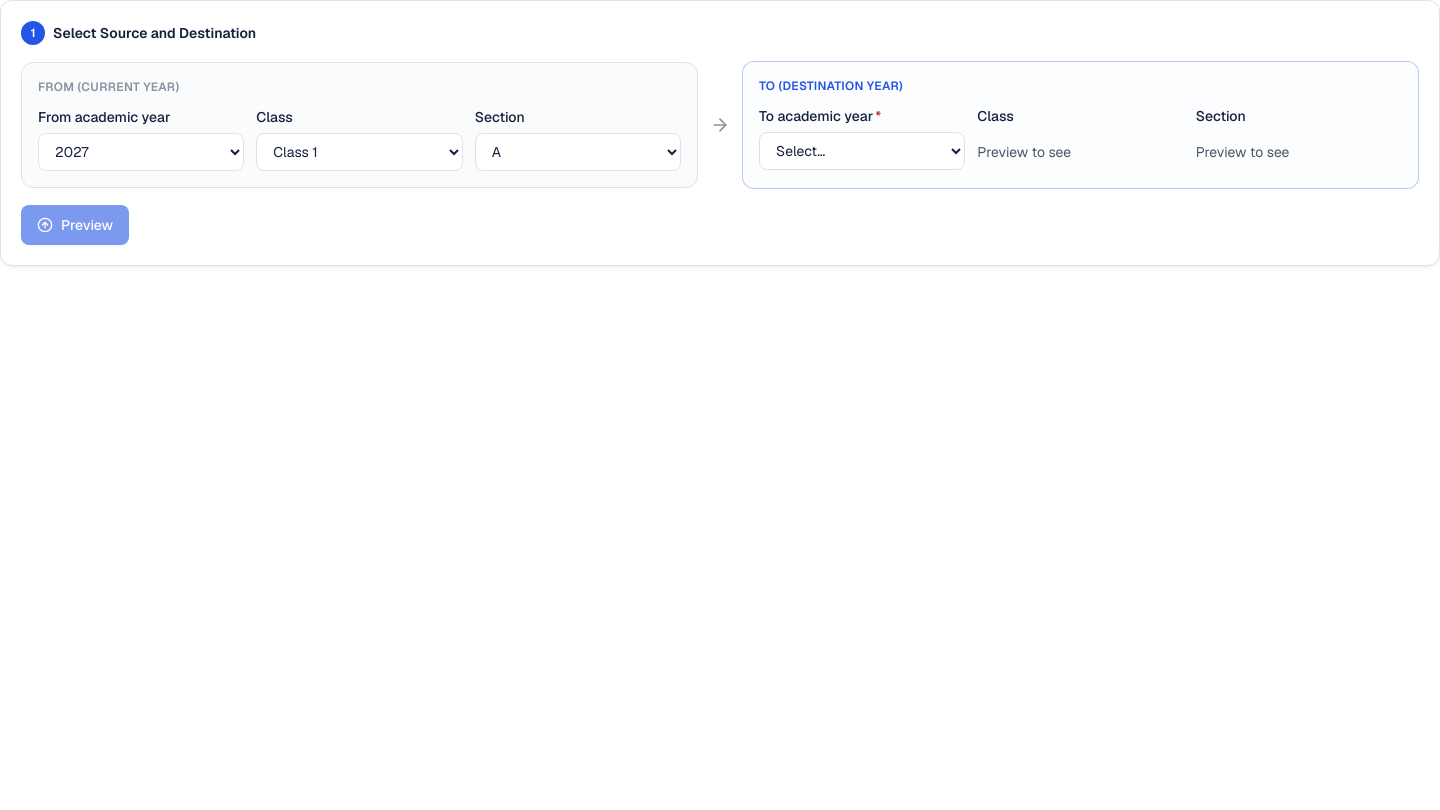
Scenario: PromotionWizard — source/destination display (Step 1) › after Preview, shows the real destination class and section computed by the API — never fabricated
The image size is (1440, 810).
Select "2028" in the dropdown labelled "To academic year" at {"x": 862, "y": 151}, box [759, 132, 965, 170]
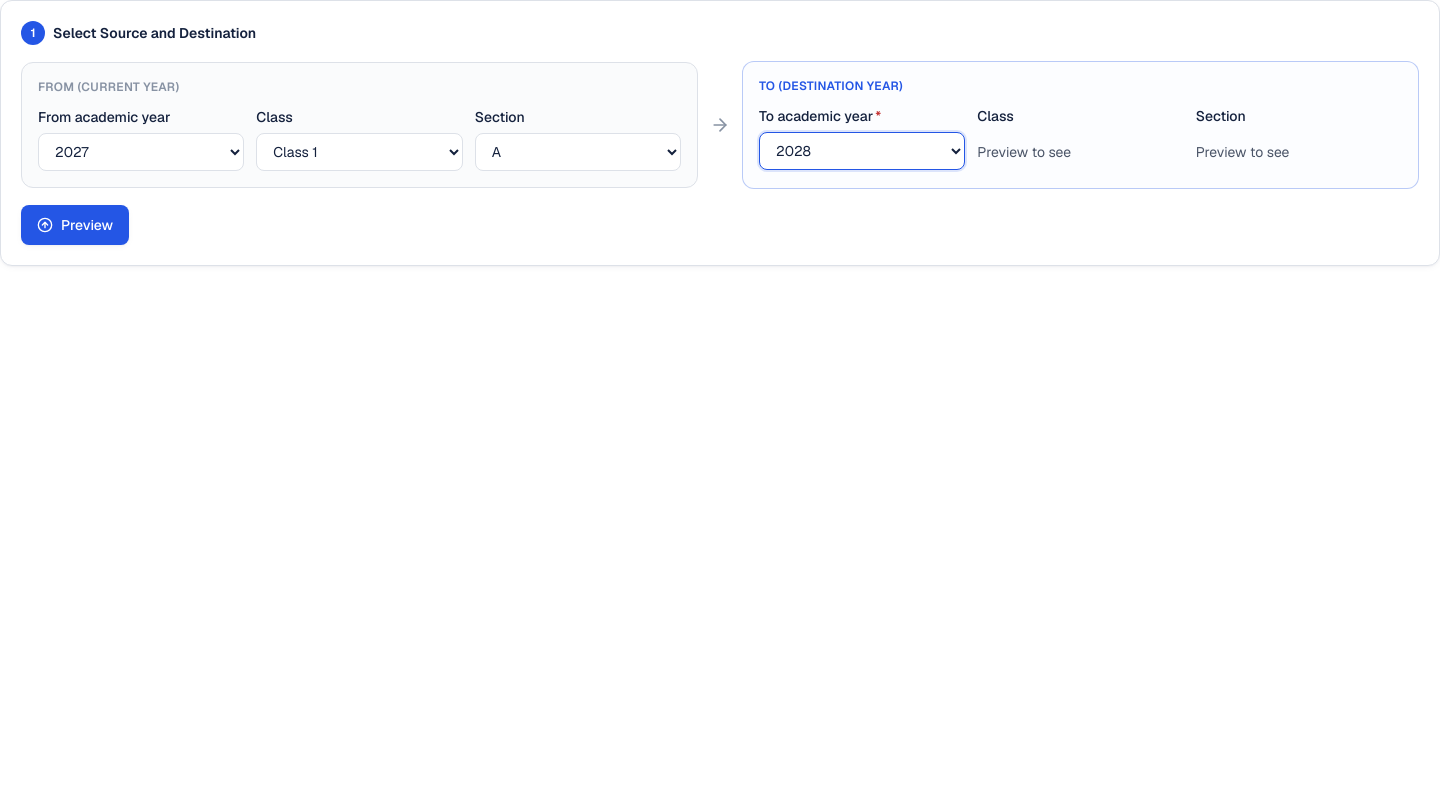
Expected: the button "Preview" is enabled
Click the button "Preview" at {"x": 75, "y": 225}, box [21, 205, 129, 245]
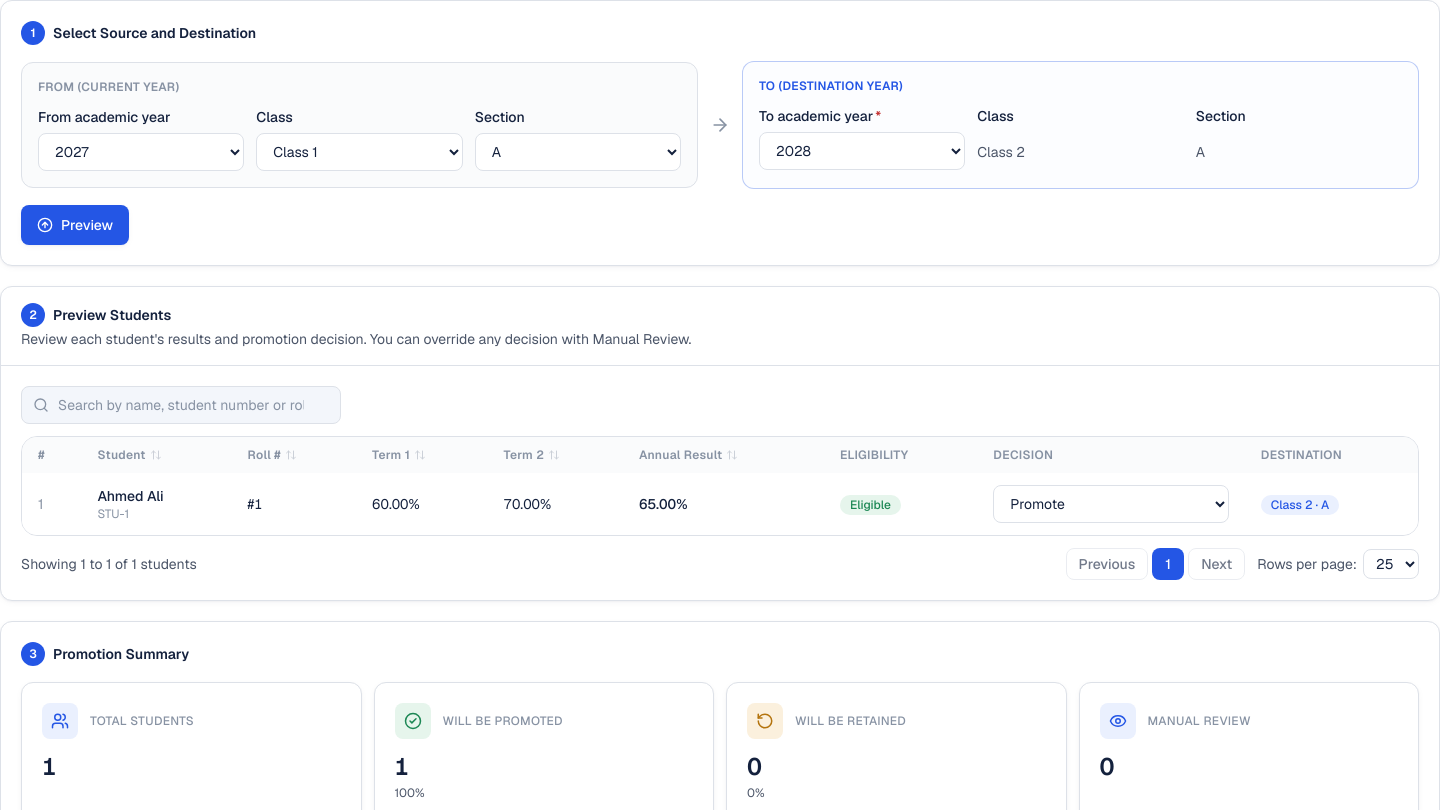
Expected: the text "Class 2" is shown, [977, 143, 1025, 161]
